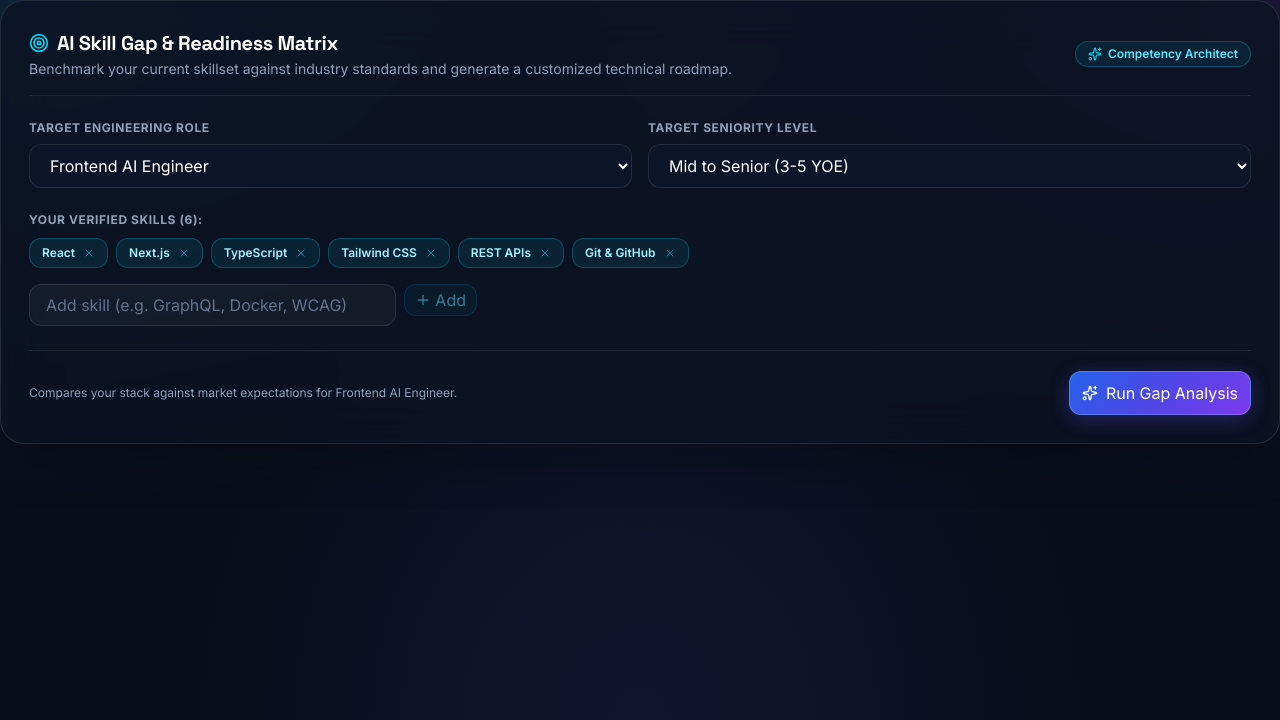
Test case: SkillGapAnalyzer Component › allows adding a new skill and removing an existing skill
This screenshot has width=1280, height=720.
Type "GraphQL" into the field with placeholder "Add skill (e.g. GraphQL, Docker, WCAG)" at (213, 305), box left=29, top=284, right=396, bottom=326
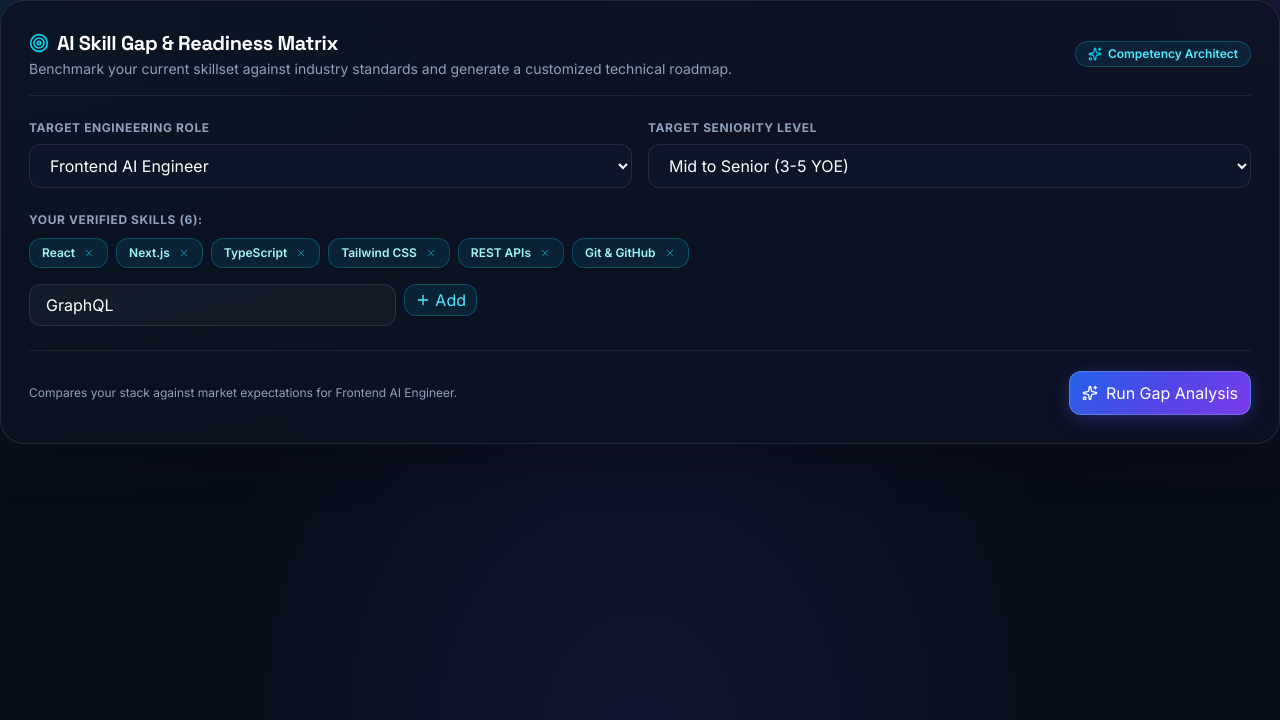
Click the button "Add" at (441, 300), box left=404, top=284, right=477, bottom=316
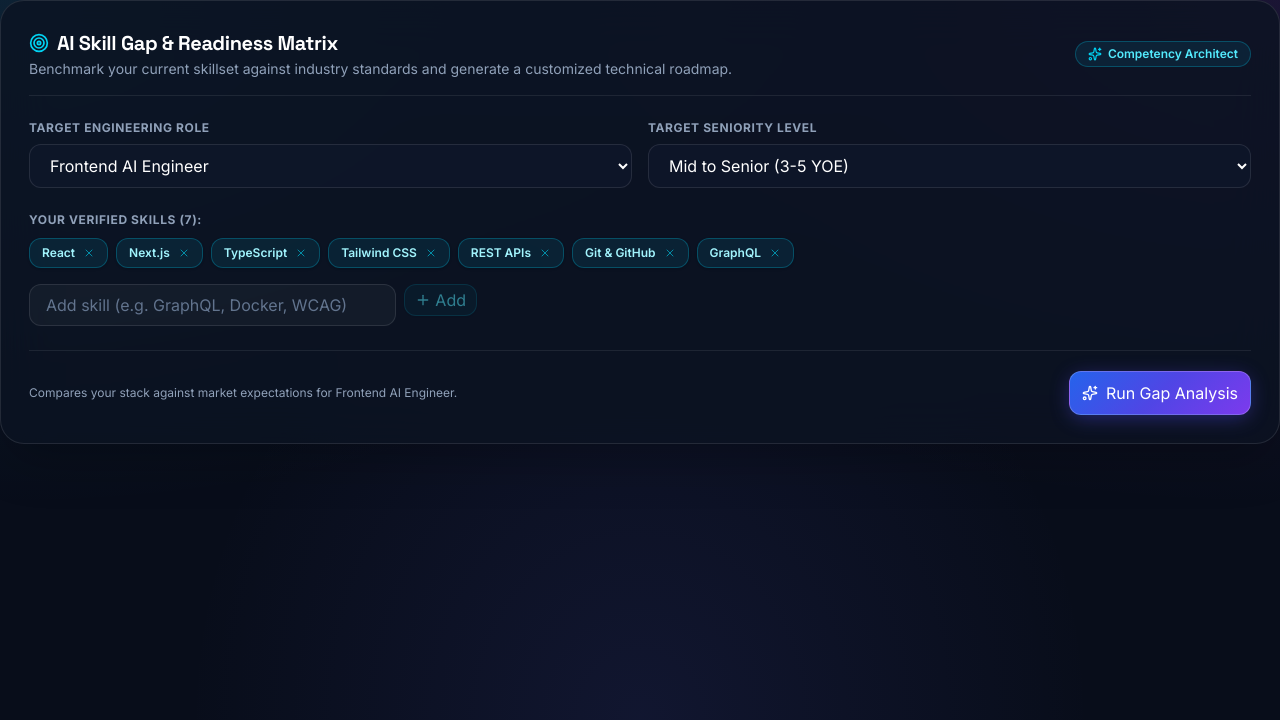
Expected: the text "GraphQL" is shown, left=710, top=245, right=761, bottom=261
Click the button named "Remove skill React" at (89, 253), box left=83, top=247, right=95, bottom=259
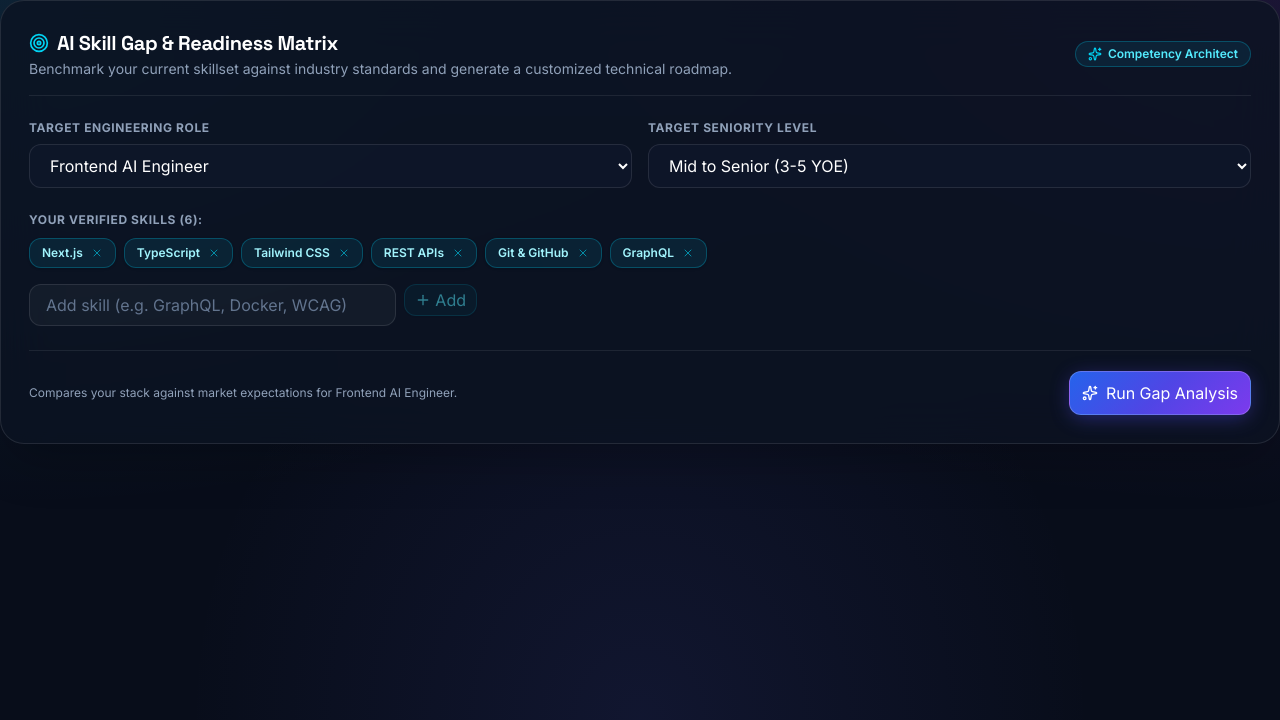
Expected: the text "React" is gone
